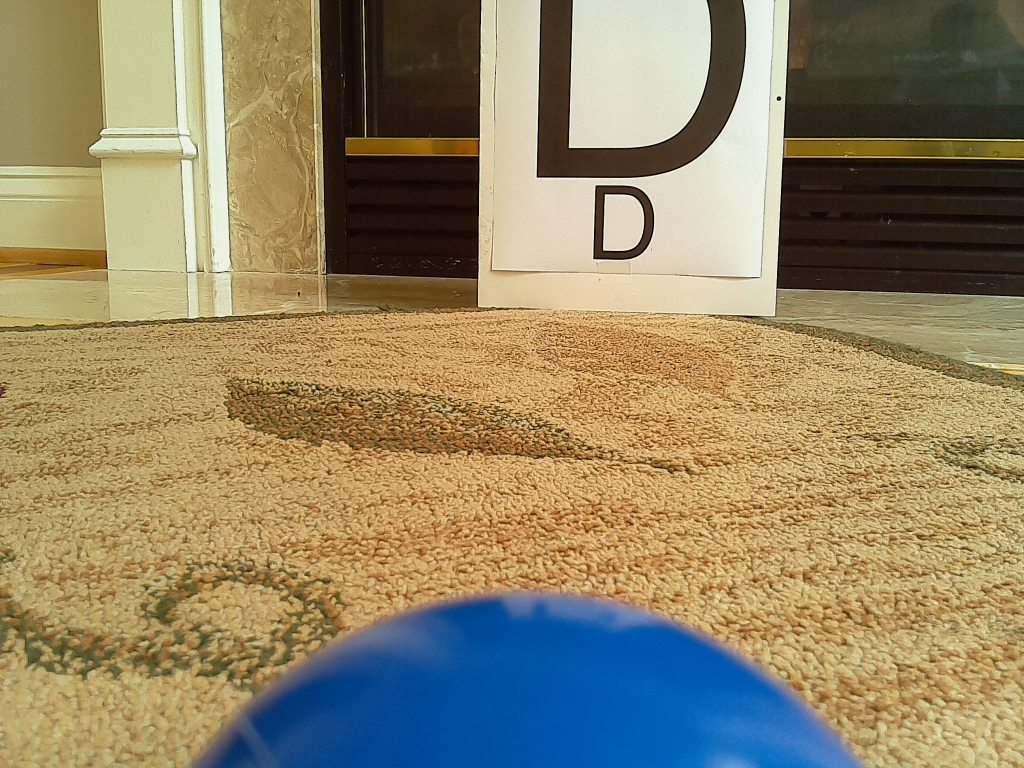letter: (595, 187, 654, 260)
